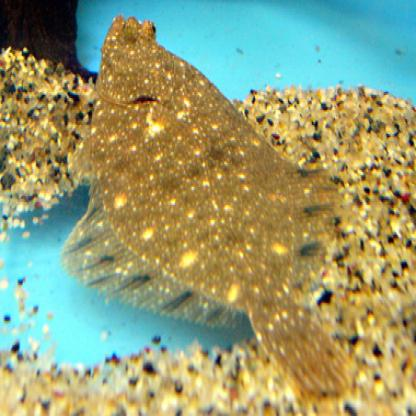flounder: (63, 16, 374, 404)
